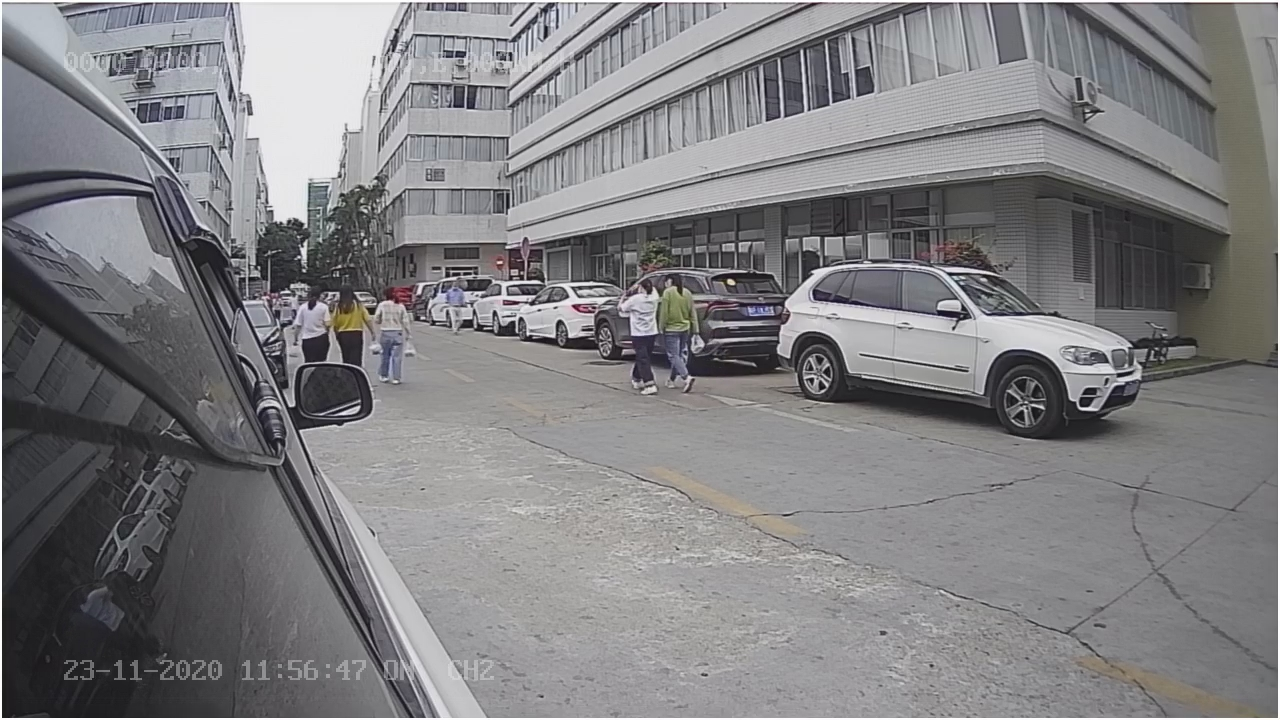person: (656, 268, 704, 396), (617, 271, 662, 389), (369, 283, 415, 388), (331, 278, 377, 360), (286, 286, 336, 357)
